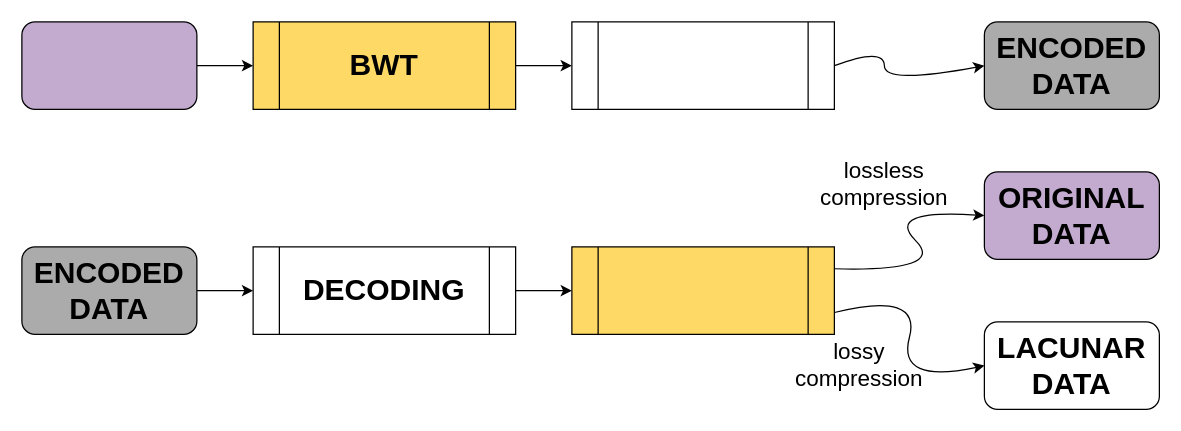
Image size: 1181x431. Some labels were removed from this diagram. Here are the shapes that lost their labels. From the top down, the centre of each, then its label:
the point at 109,65: DATA
the point at 702,65: ENCODING
the point at 702,290: INVERSE BWT
